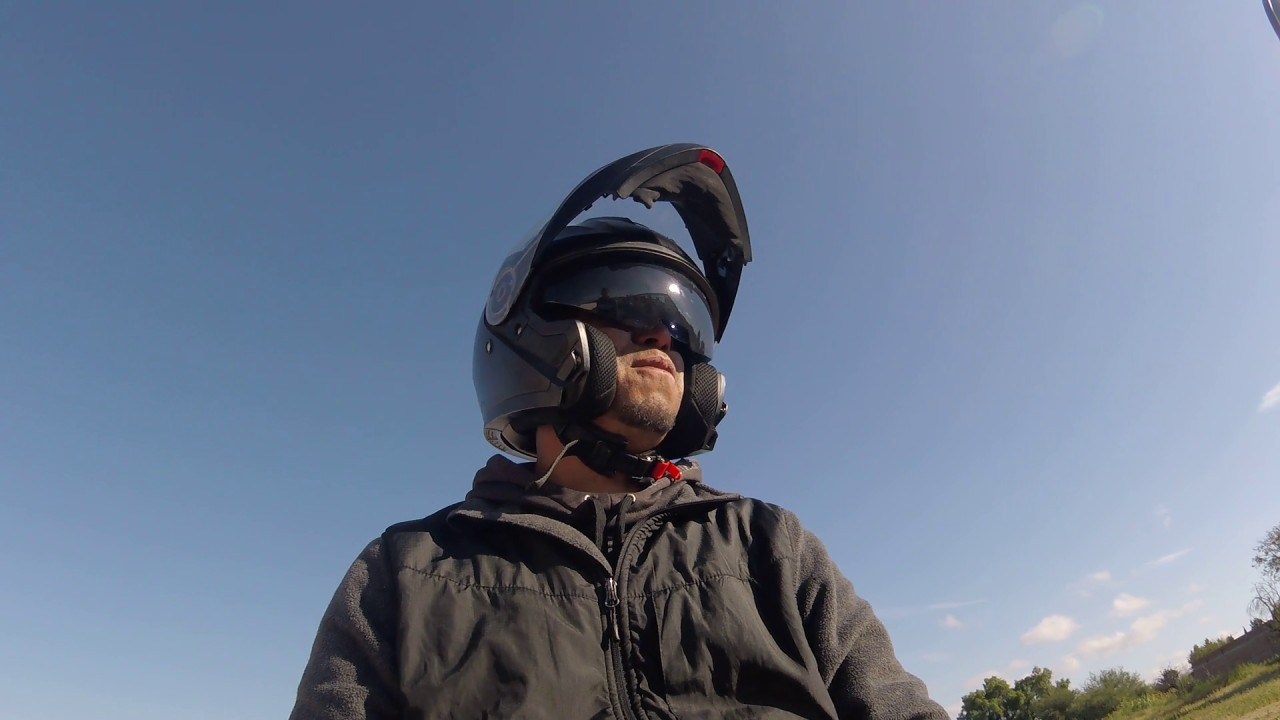With Helmet: (500, 131, 765, 471)
